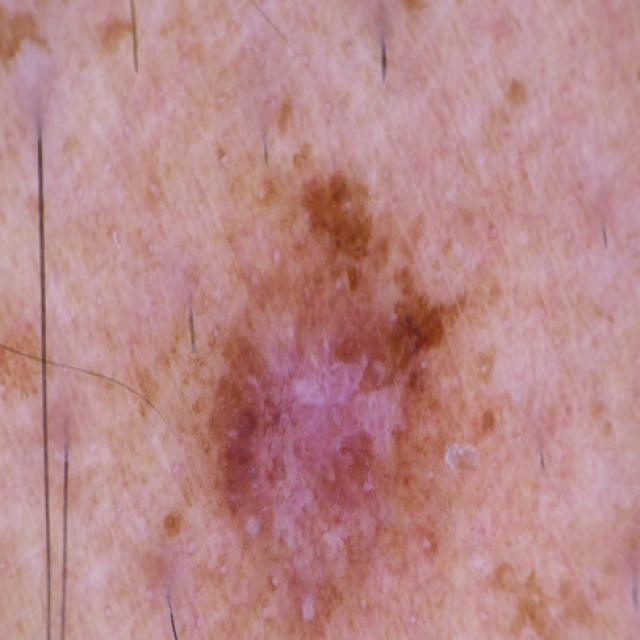Dermatofibroma: (183, 182, 453, 640)
